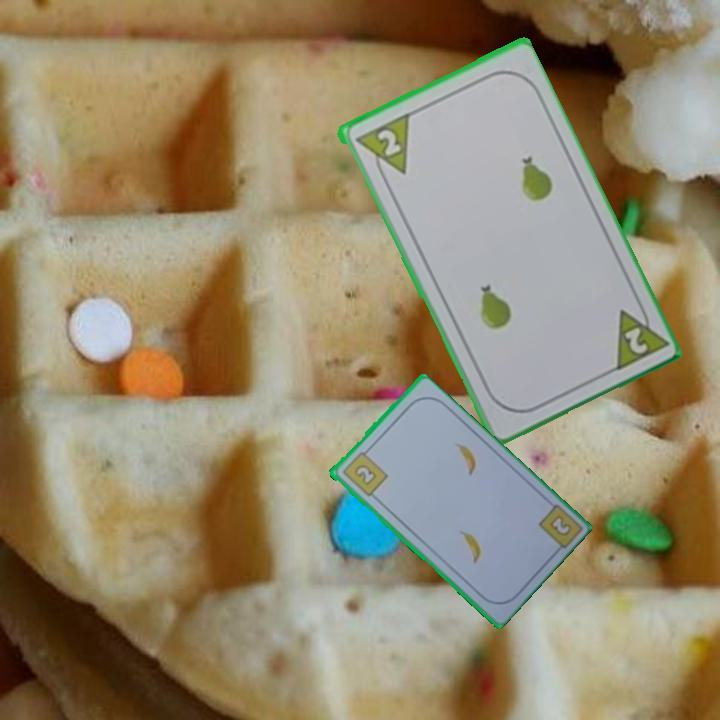2b: (338, 445, 390, 499), (548, 514, 572, 537)
2p: (607, 296, 668, 375), (349, 110, 412, 185)
